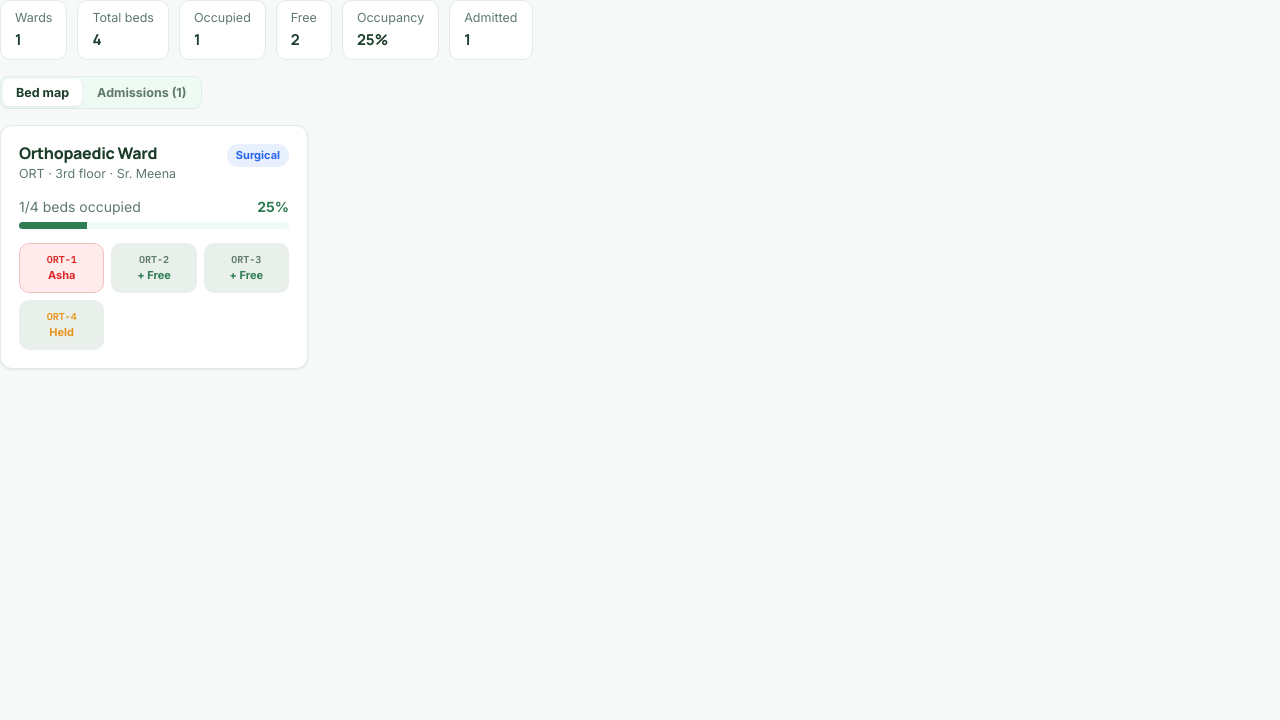
it: WardsPage › hides transfer and discharge without those keys
Click the button "ORT-1 Asha" at (62, 268), box left=19, top=243, right=104, bottom=293
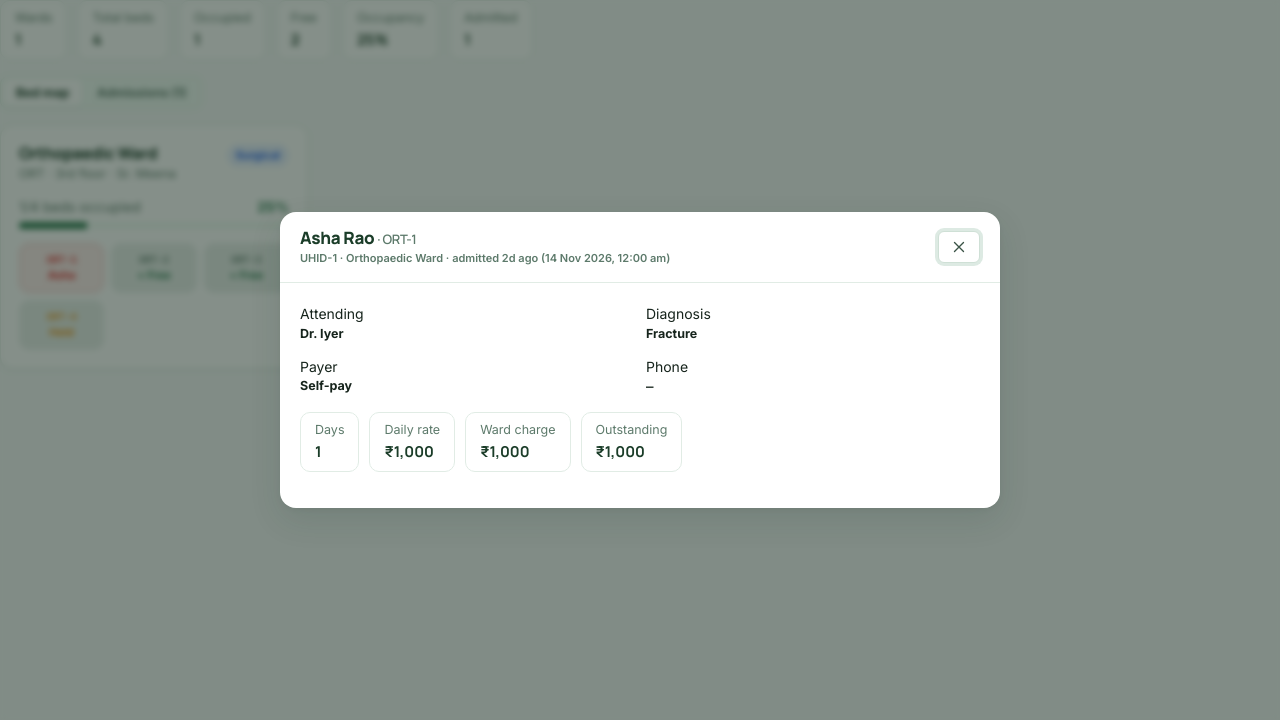
Now the dialog shows "Asha Rao", box left=300, top=226, right=374, bottom=249
Now the dialog shows "Outstanding", box left=596, top=422, right=667, bottom=437
